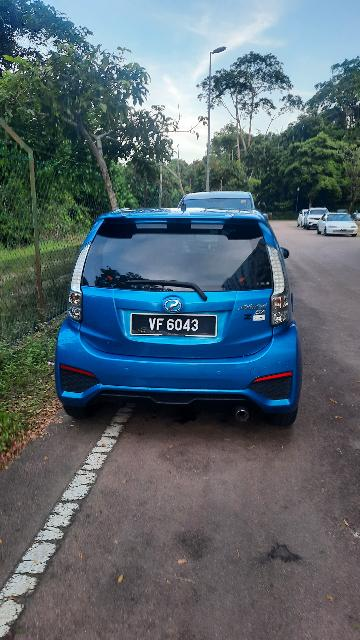License_Plate: (132, 310, 218, 340)
car: (46, 199, 329, 437)
